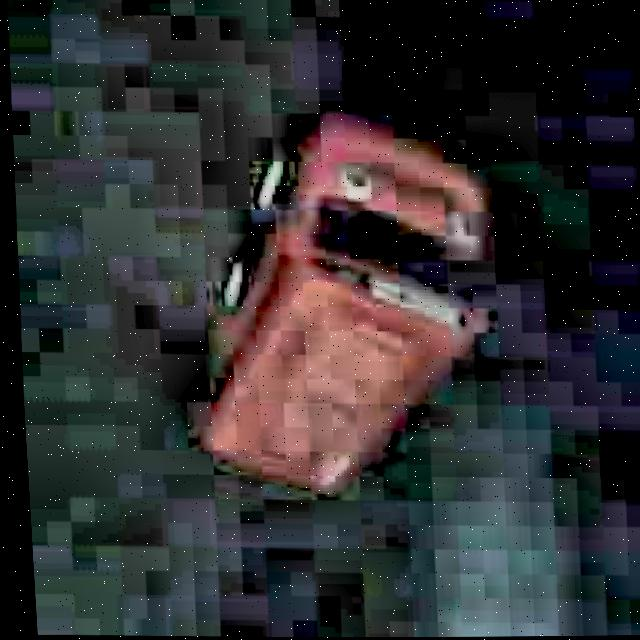bus: (161, 95, 519, 517)
